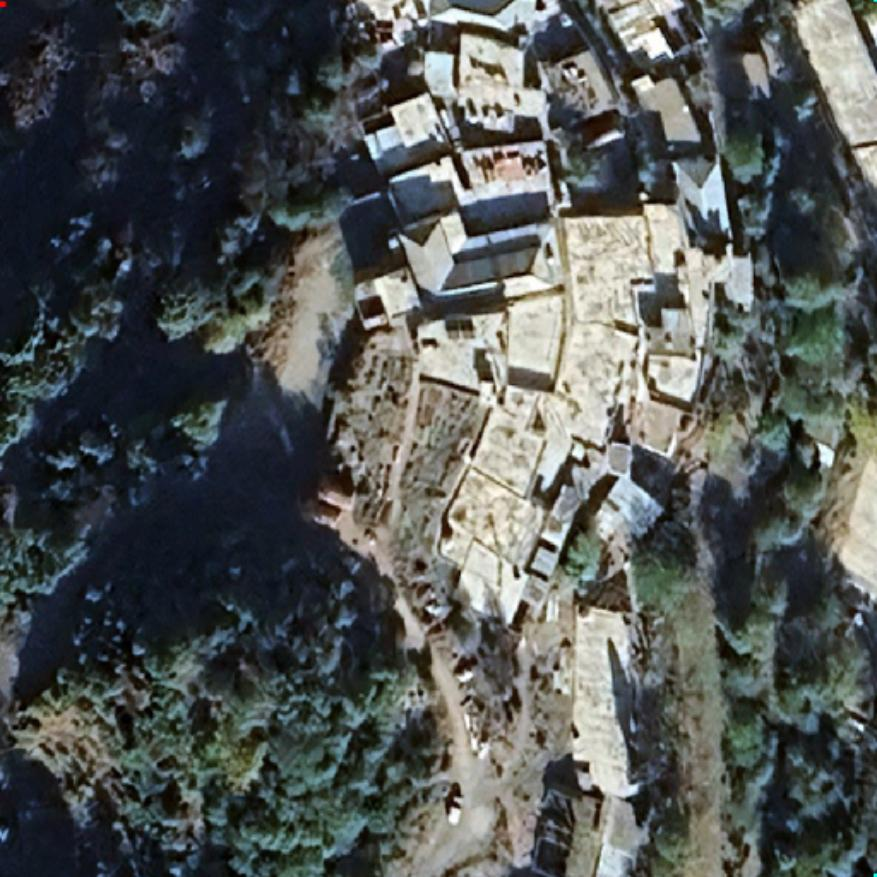Solarpanel: (440, 316, 480, 342)
